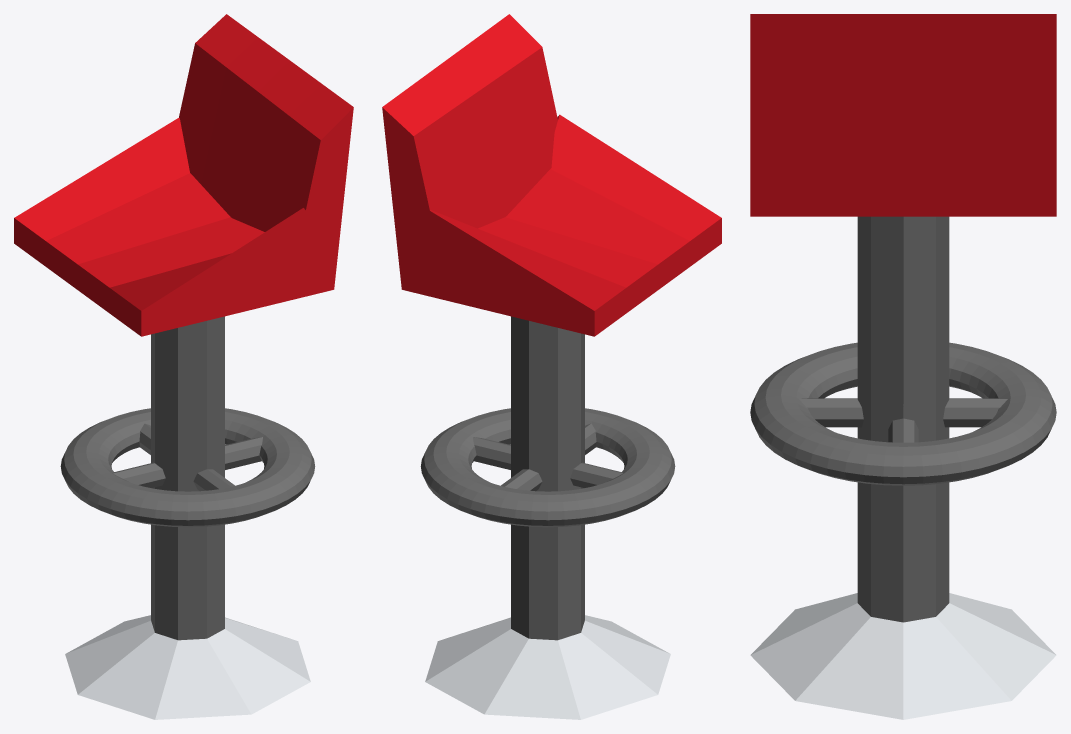
Rendered from Barstoel.fbx.
The picture shows the model from 3 angles, left to right: view 1: azimuth 30°, elevation 25°; view 2: azimuth 150°, elevation 25°; view 3: azimuth 270°, elevation 25°; orthographic projection. The views are drawn at different scales.
Parts seen in each view (by area): view 1: Kubus, Cylinder, Kegel, Torus, Cylinder.002, Cylinder.001; view 2: Kubus, Cylinder, Kegel, Torus, Cylinder.002, Cylinder.001; view 3: Kubus, Cylinder, Kegel, Torus, Cylinder.001, Cylinder.002.
Boxes of the visible parts, x1,y1,x2,y2 form: Kubus: (14,14,353,336); Cylinder: (151,316,224,640); Kegel: (65,615,310,719); Torus: (60,408,315,527); Cylinder.002: (113,437,262,487); Cylinder.001: (139,423,234,491); Kubus: (382,14,721,336); Cylinder: (511,316,584,640); Kegel: (425,615,670,719); Torus: (420,408,675,527); Cylinder.002: (473,437,622,487); Cylinder.001: (501,423,596,491); Kubus: (750,14,1056,216); Cylinder: (857,216,949,622); Kegel: (750,593,1056,719); Torus: (750,342,1056,485); Cylinder.001: (799,398,1007,427); Cylinder.002: (888,418,918,442).
Bounding box in the file's own units: 200 × 505 × 200.
